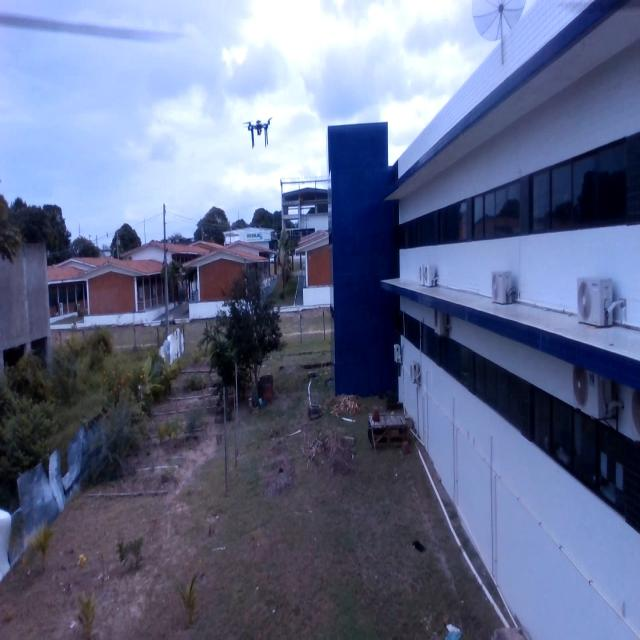-uav-: (242, 105, 276, 153)
